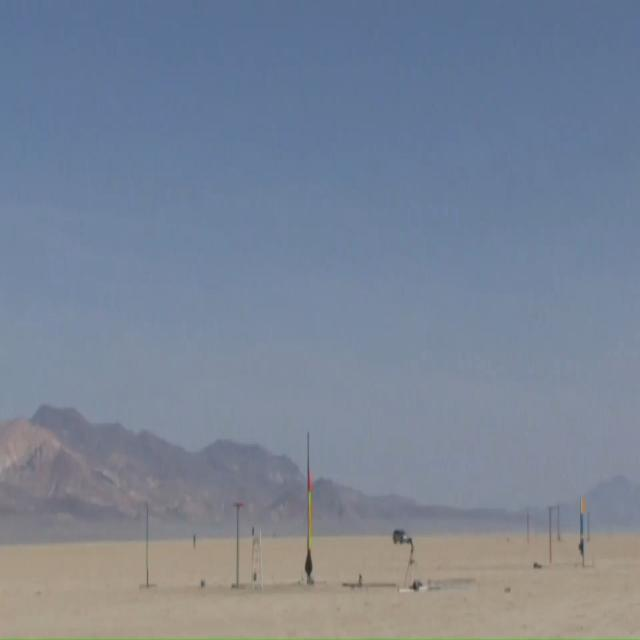Rocket: (306, 473, 314, 577), (580, 496, 584, 555)
